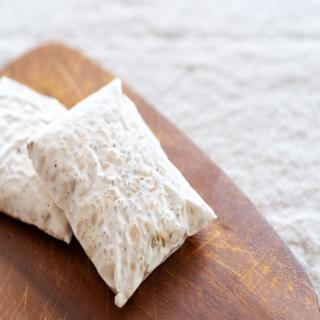Tempe: (1, 75, 74, 245)
